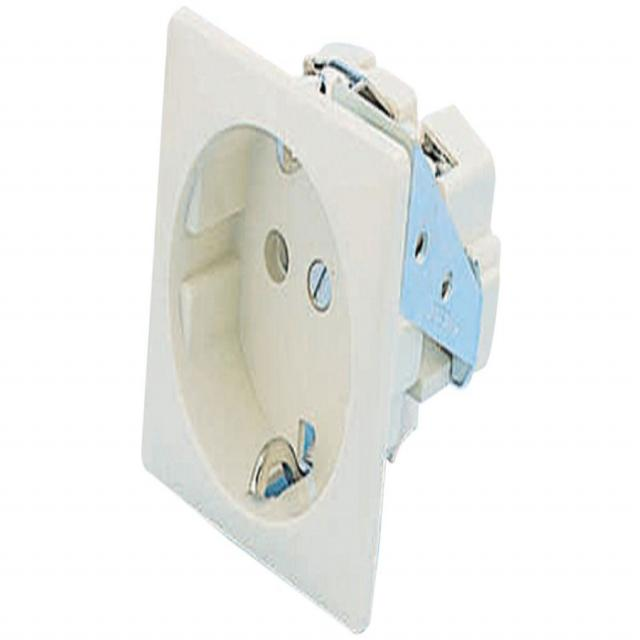typeb: (156, 45, 409, 600)
